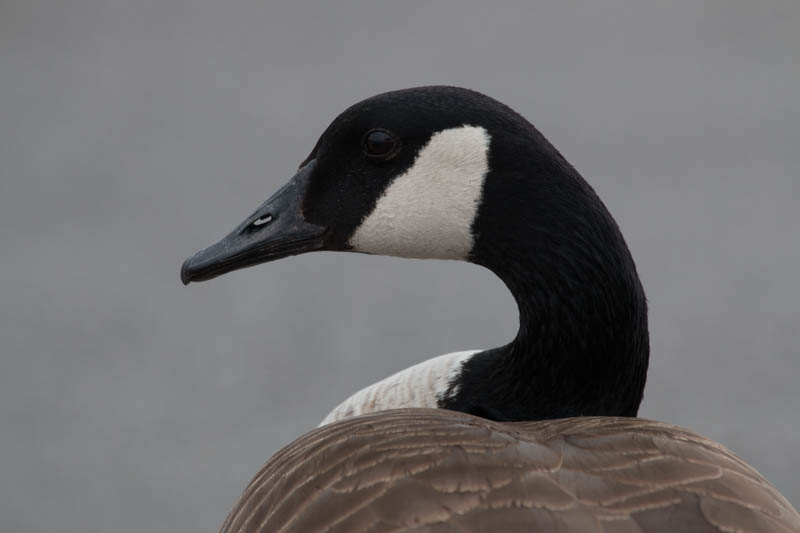goose-head: (180, 83, 532, 286)
